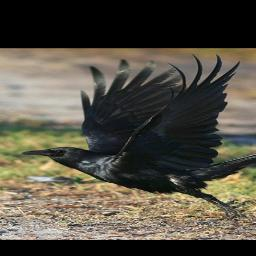Crow: (18, 53, 256, 221)
